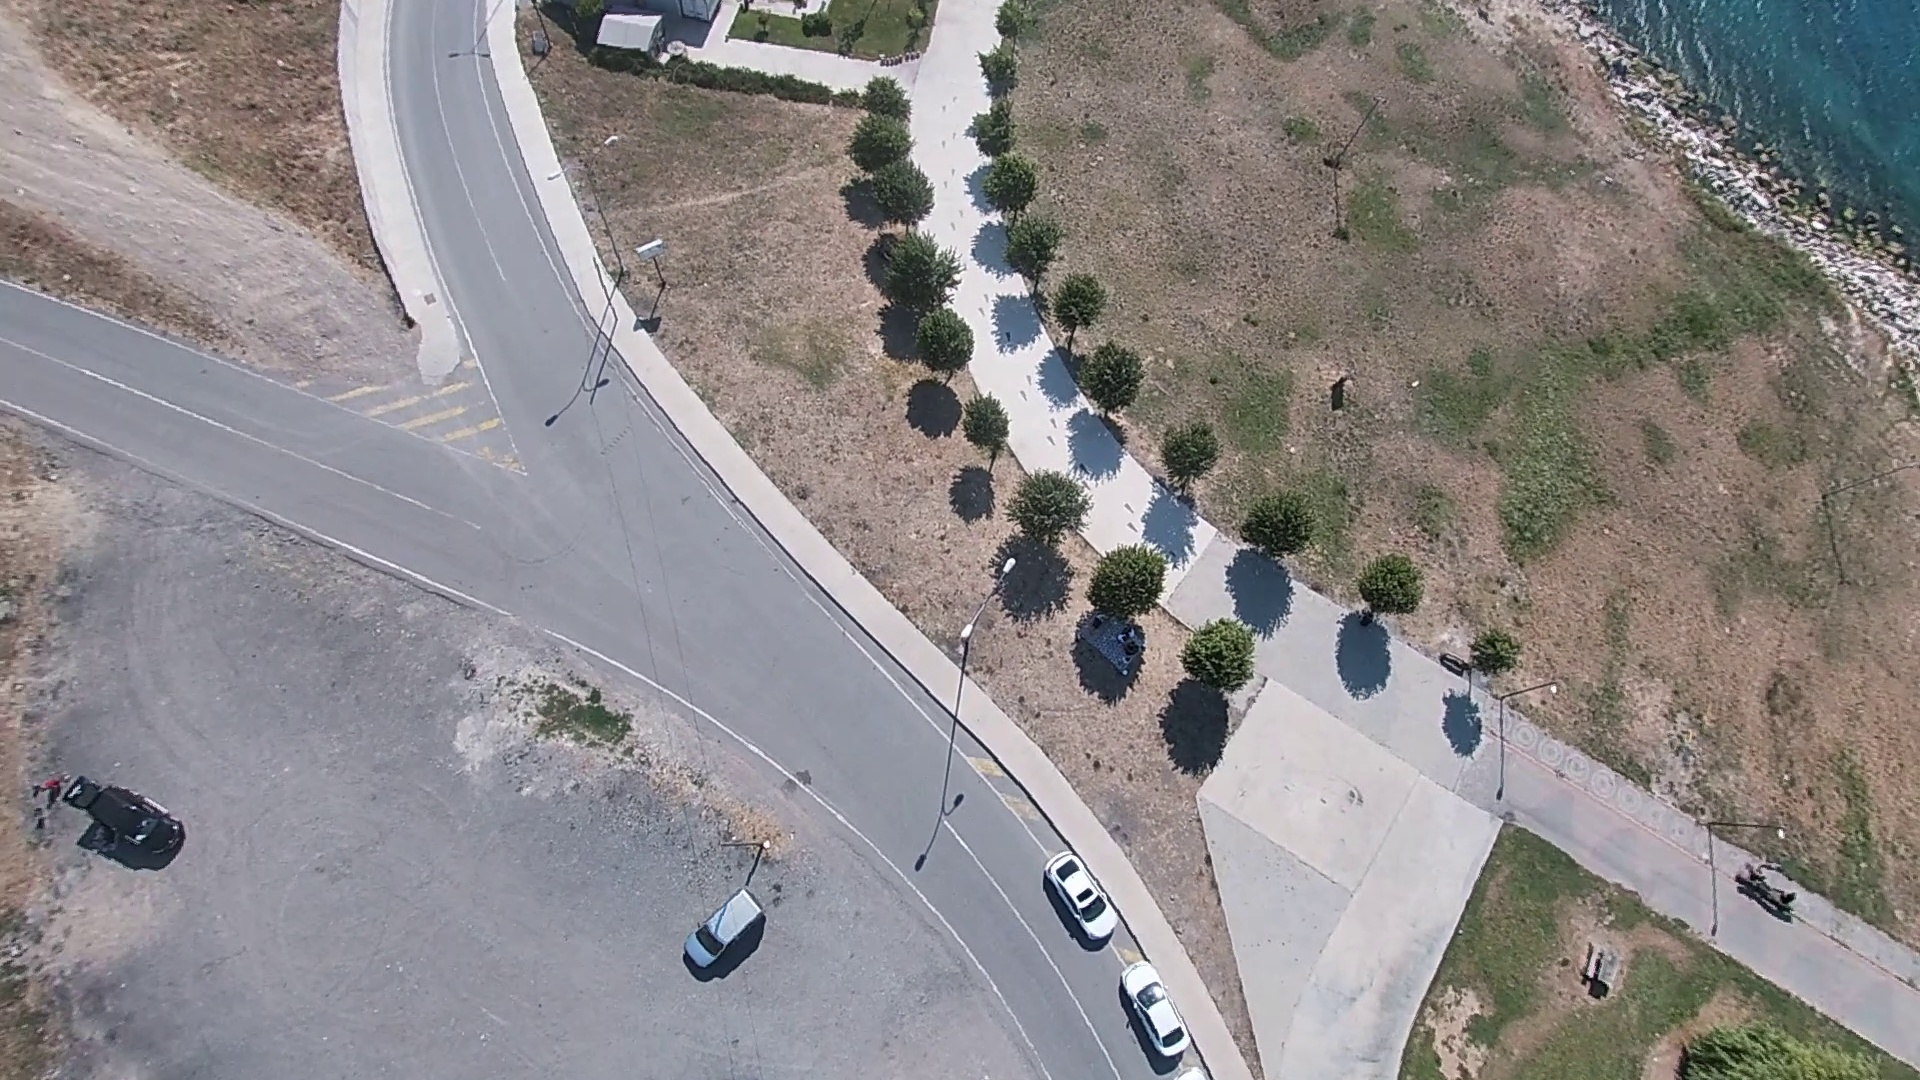arac: (1045, 841, 1204, 1064), (678, 890, 764, 975), (1044, 850, 1121, 944)
insan: (1583, 945, 1613, 998), (1330, 372, 1347, 411)
